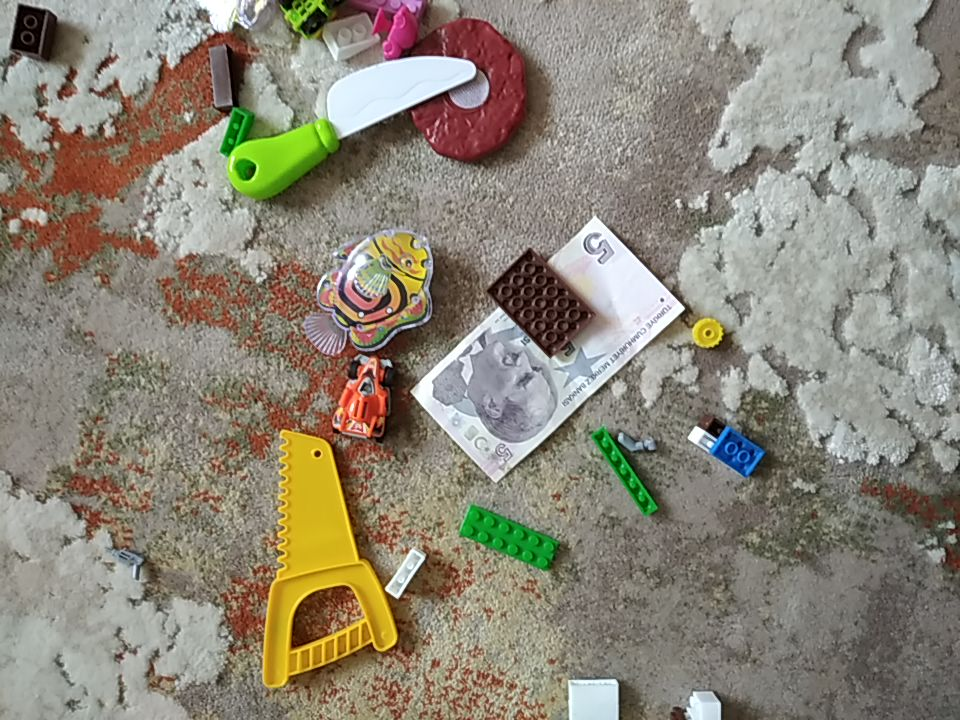5TL: (408, 214, 686, 485)
